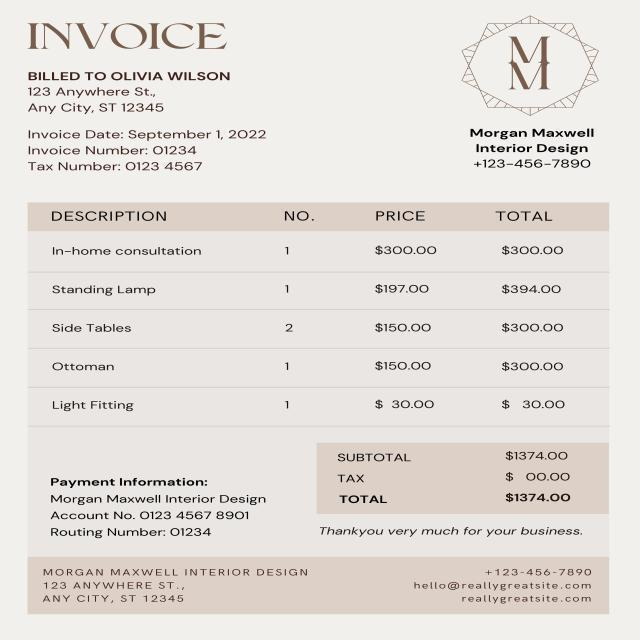ROI: (32, 205, 601, 422), (316, 440, 605, 518), (456, 33, 606, 182), (37, 465, 276, 549), (27, 559, 328, 611), (13, 126, 288, 181), (25, 62, 270, 117), (386, 559, 610, 613), (20, 16, 251, 54), (306, 522, 595, 543)
